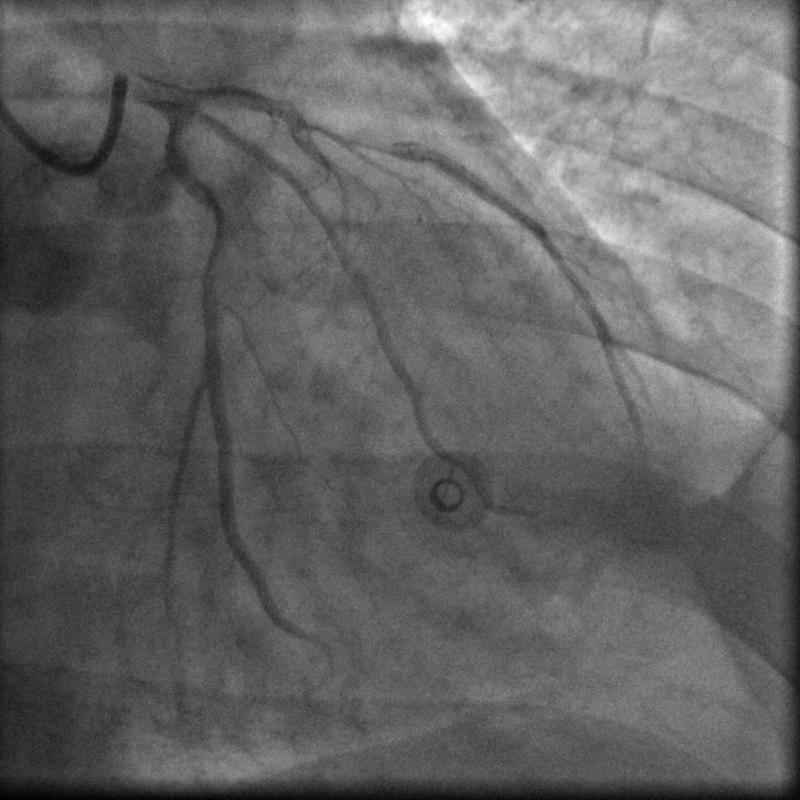Stenosis: (310, 116, 413, 161)
